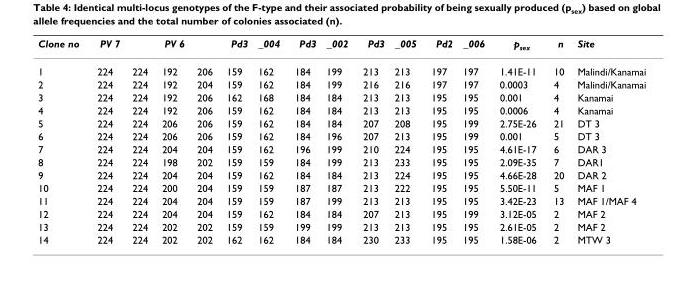table: (37, 37, 645, 245)
table column: (570, 37, 645, 245), (491, 37, 544, 245), (37, 37, 87, 245), (87, 37, 125, 245), (154, 37, 189, 245), (388, 37, 423, 245), (218, 37, 252, 245), (252, 37, 286, 245), (286, 37, 320, 245), (320, 37, 354, 245), (354, 37, 388, 245), (423, 37, 457, 245), (457, 37, 491, 245), (125, 37, 154, 245), (189, 37, 218, 245), (544, 37, 570, 245)
table column header: (37, 37, 645, 58)
table row: (37, 37, 645, 58), (37, 58, 645, 77), (37, 77, 645, 90), (37, 90, 645, 103), (37, 103, 645, 116), (37, 116, 645, 129), (37, 129, 645, 142), (37, 142, 645, 155), (37, 155, 645, 168), (37, 168, 645, 181), (37, 181, 645, 194), (37, 194, 645, 207), (37, 207, 645, 220), (37, 232, 645, 245), (37, 220, 645, 232)
